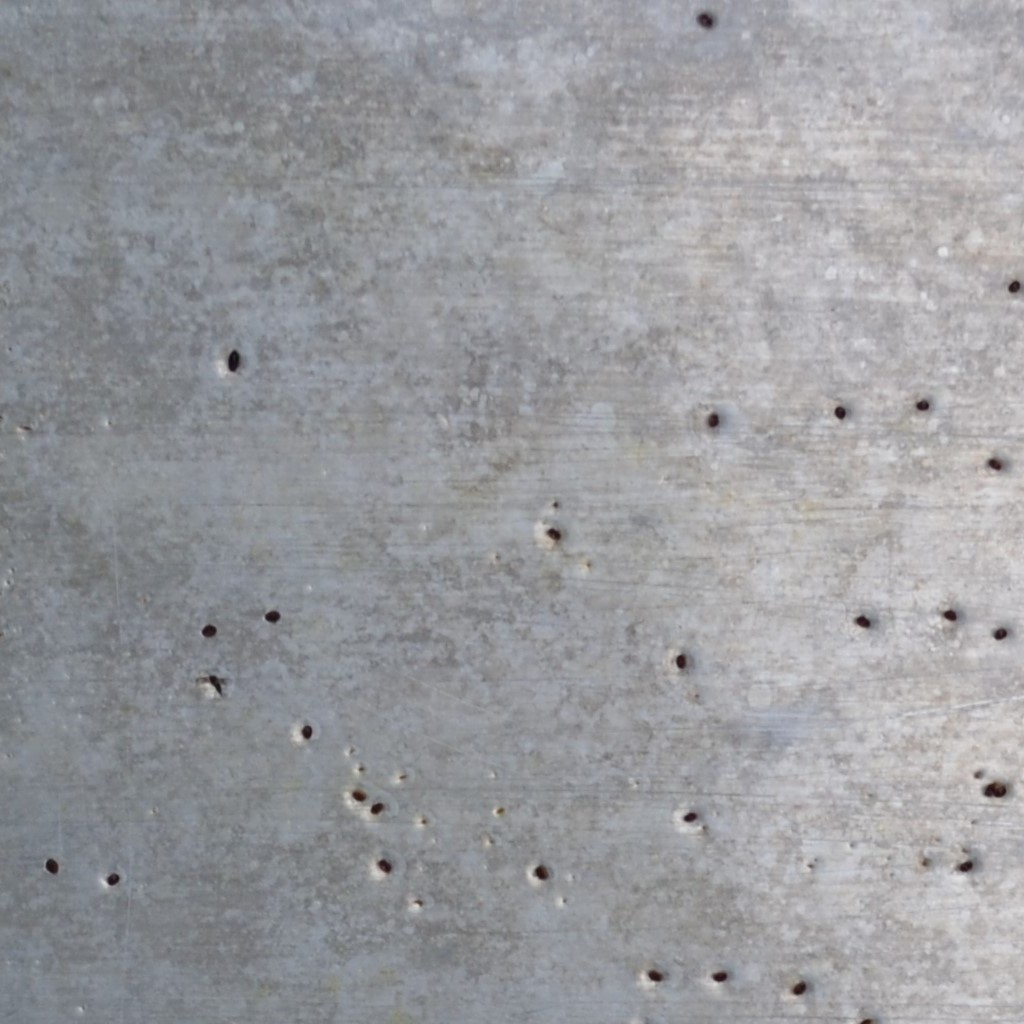varroa: (693, 8, 717, 31), (199, 621, 218, 641), (1005, 276, 1023, 297), (263, 607, 282, 626), (226, 348, 241, 372), (990, 625, 1009, 643), (706, 407, 721, 429), (941, 605, 959, 623), (533, 862, 550, 881), (791, 977, 807, 997), (43, 856, 59, 876), (855, 613, 872, 631), (646, 966, 664, 983), (710, 967, 729, 983), (377, 856, 393, 875), (985, 457, 1002, 474), (106, 869, 122, 887), (299, 723, 314, 742), (682, 809, 699, 825), (369, 799, 385, 816), (915, 396, 930, 414), (993, 780, 1008, 798), (958, 857, 973, 875), (350, 788, 368, 803), (674, 650, 687, 670), (834, 401, 846, 421), (982, 782, 994, 798)
